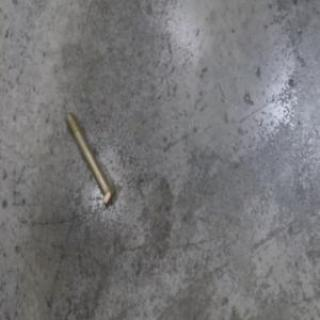Bolttrack_idkeyframe: (63, 109, 116, 208)
